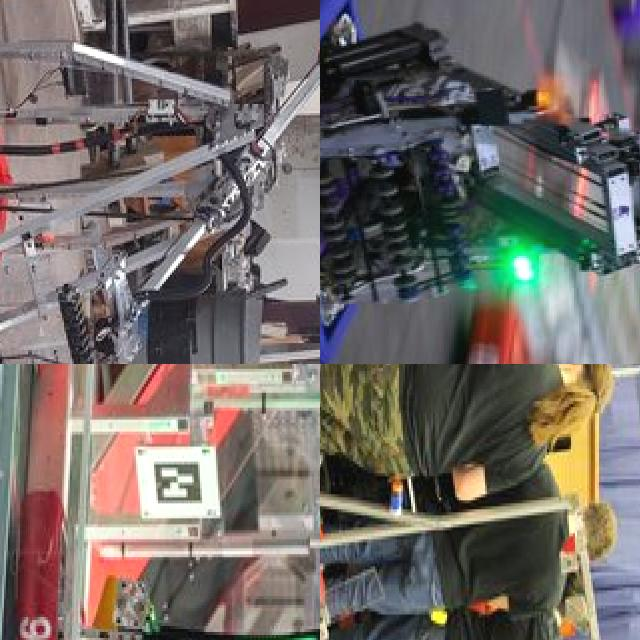FRC-Robots: (0, 0, 320, 364), (320, 0, 640, 364), (320, 364, 640, 640), (0, 464, 320, 640)
